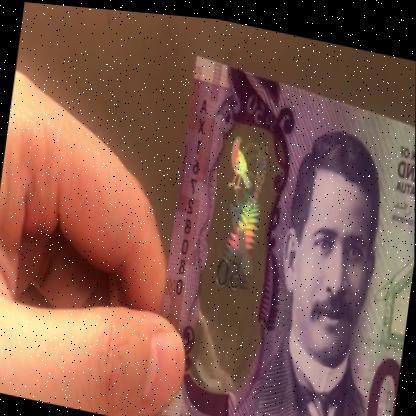50F: (195, 121, 274, 363)
